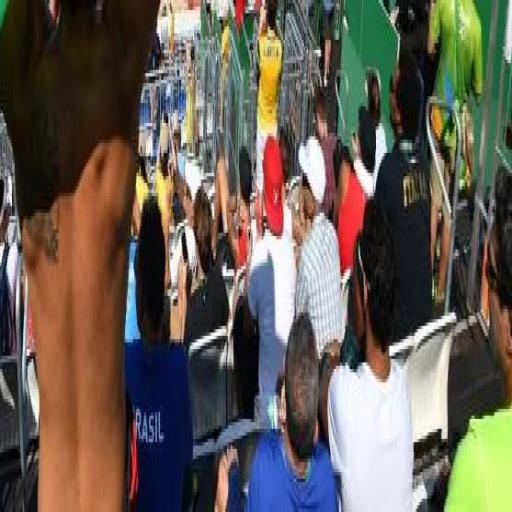person: (0, 0, 158, 508), (320, 200, 413, 511), (446, 170, 511, 511), (126, 197, 192, 508), (247, 316, 337, 511), (376, 50, 432, 342), (235, 137, 295, 398), (296, 137, 342, 355), (429, 0, 483, 179), (183, 190, 229, 349), (257, 0, 283, 192), (213, 147, 251, 269), (334, 140, 366, 275), (0, 173, 19, 355), (314, 87, 336, 219), (367, 74, 387, 189), (352, 107, 375, 199), (174, 163, 202, 229), (132, 157, 149, 236), (322, 0, 334, 89)
